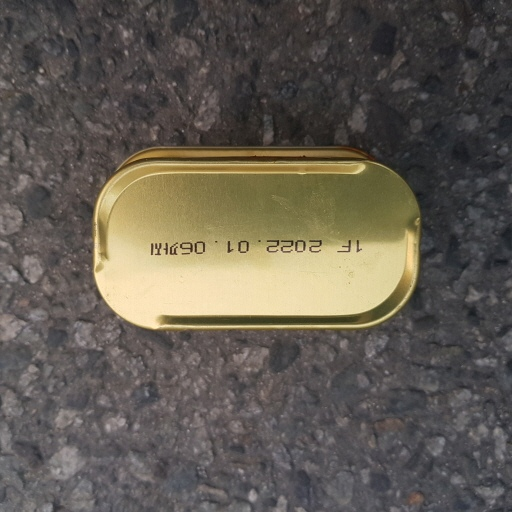Metal_2: (87, 142, 423, 342)
